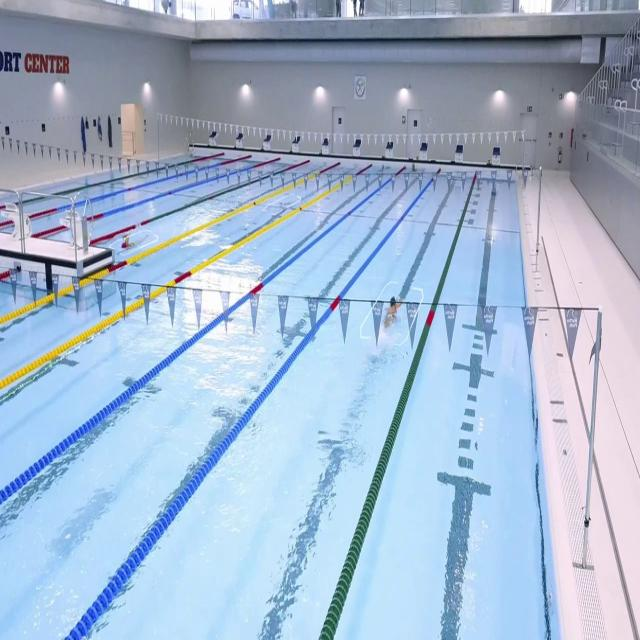Swimming: (382, 295, 403, 332), (118, 233, 149, 254)
